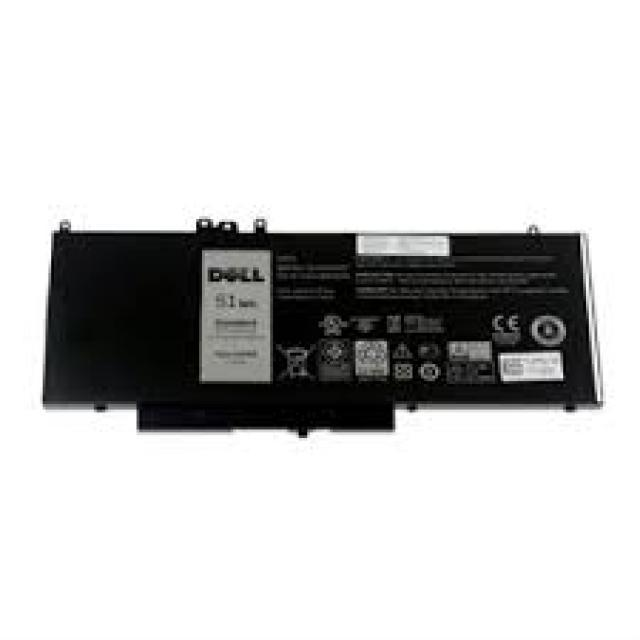Battery: (32, 184, 628, 471)
